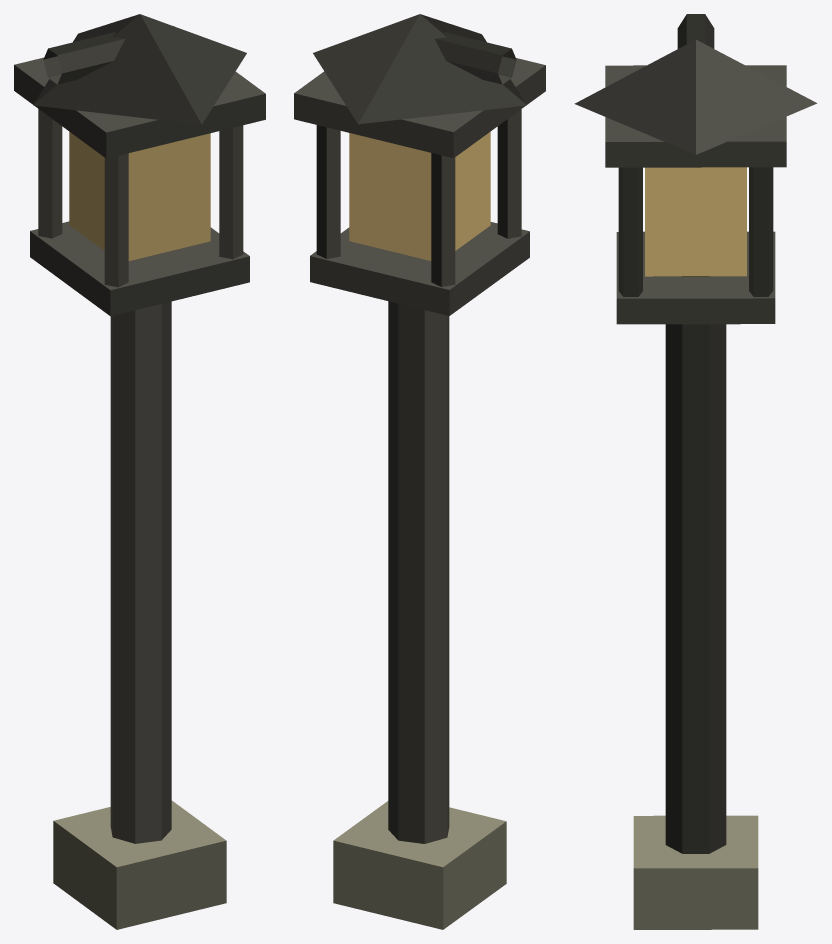
3 views of the same model, side by side, from view 1: azimuth 30°, elevation 25°; view 2: azimuth 150°, elevation 25°; view 3: azimuth 270°, elevation 25° (orthographic).
Parts seen in each view (by area): view 1: 802b27862140670d158589cec1ea06927be2458bf15197a18e125219aead; view 2: 802b27862140670d158589cec1ea06927be2458bf15197a18e125219aead; view 3: 802b27862140670d158589cec1ea06927be2458bf15197a18e125219aead.
Part boxes in pixels (left/top/right/bottom): 802b27862140670d158589cec1ea06927be2458bf15197a18e125219aead: left=14, top=14, right=265, bottom=929; 802b27862140670d158589cec1ea06927be2458bf15197a18e125219aead: left=294, top=14, right=545, bottom=929; 802b27862140670d158589cec1ea06927be2458bf15197a18e125219aead: left=574, top=14, right=817, bottom=929.
Size of the model in its own units: 0.86 by 3.37 by 0.86.
Materials: 2 (1 with a texture image).
